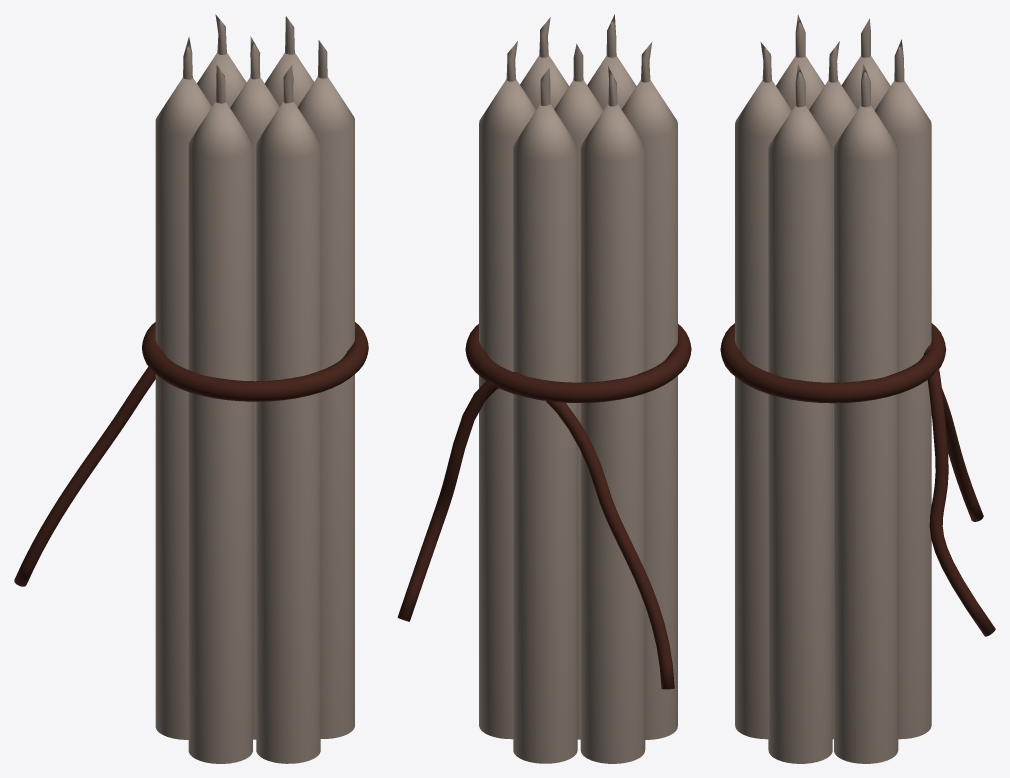
The model's file is CandleBundle.fbx.
3 views of the same model, side by side, from view 1: azimuth 30°, elevation 25°; view 2: azimuth 150°, elevation 25°; view 3: azimuth 270°, elevation 25° (orthographic).
Visible parts, largest first — view 1: Cylinder, BezierCircle; view 2: Cylinder, BezierCircle; view 3: Cylinder, BezierCircle.
Boxes of the visible parts, x1,y1,x2,y2 form: Cylinder: (155,14,354,763); BezierCircle: (14,322,368,586); Cylinder: (479,14,677,763); BezierCircle: (397,324,691,689); Cylinder: (735,14,931,763); BezierCircle: (720,323,995,636).
Size of the model in its own units: 93.51 by 227 by 82.85.
